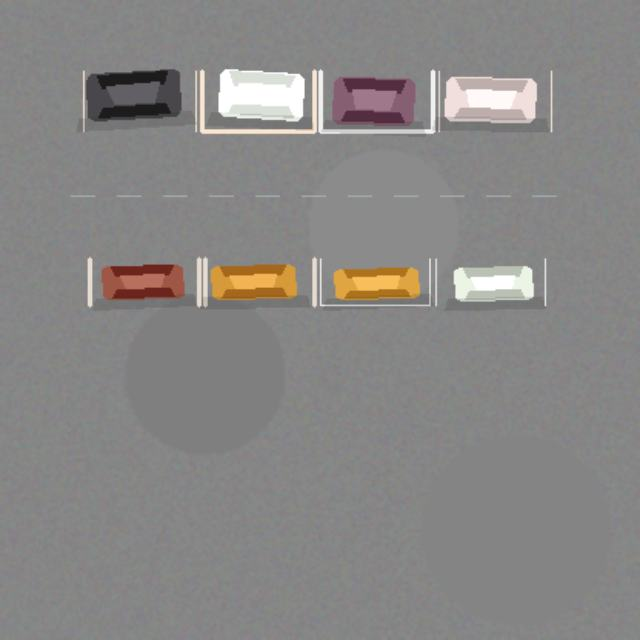space-occupied: (438, 71, 551, 131), (83, 71, 195, 131), (202, 71, 314, 131), (320, 71, 432, 131), (435, 258, 545, 305), (89, 258, 198, 305), (205, 258, 314, 305), (320, 258, 429, 305)
